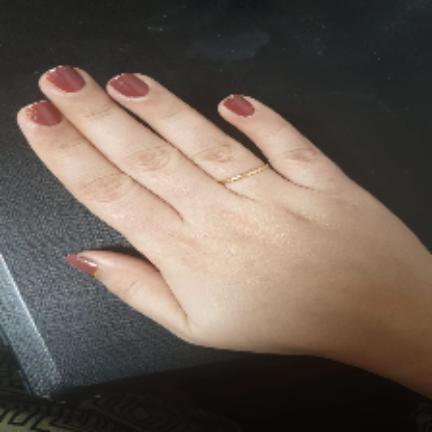Nail: (110, 73, 149, 99), (46, 66, 85, 92), (26, 101, 62, 126), (223, 94, 255, 117), (65, 255, 98, 275)
